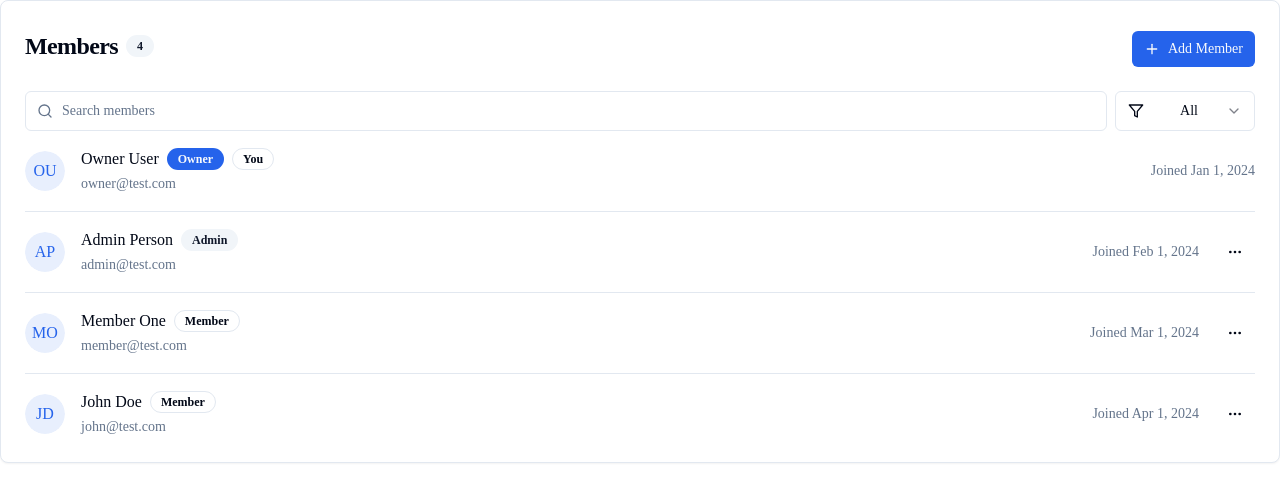
Test: TeamMembers Enhancements › shows no matching members message
In the field with placeholder "Search members": [566, 111] box [25,91,1107,131], type "nonexistent"
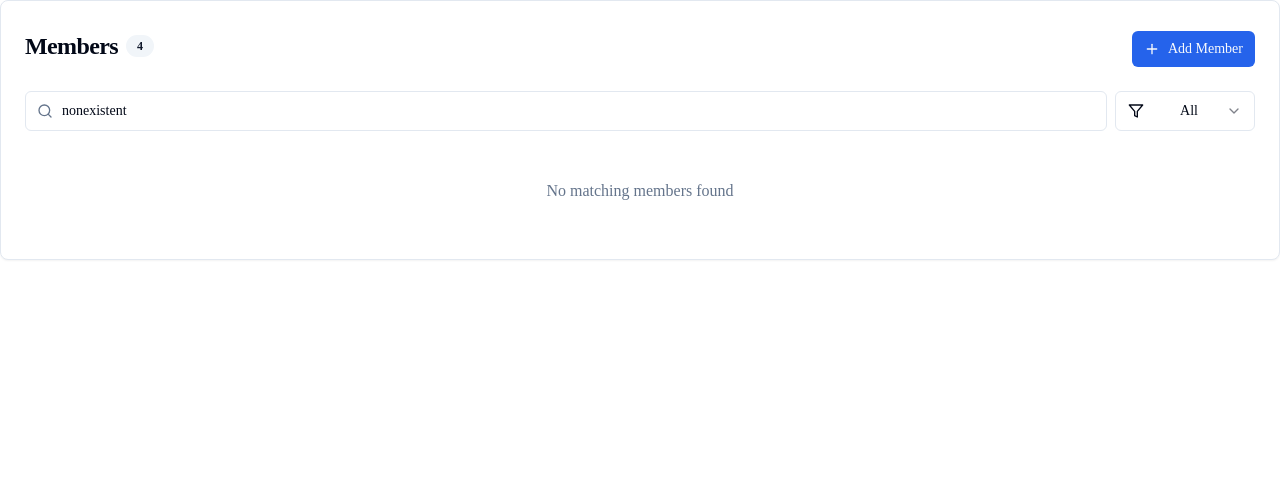
Expected: the text "No matching members found" is shown, [546,182,734,199]
